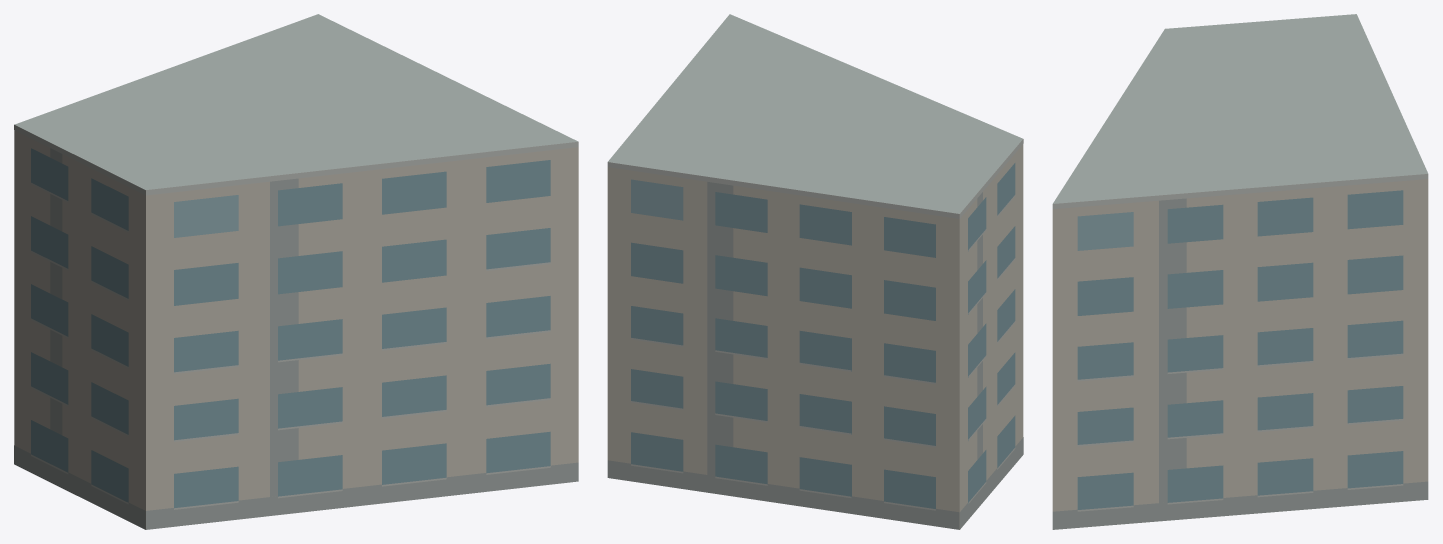
File: residential-d25a2760-00db-45e9-8450-524bcc6209c4.glb
3 views of the same model, side by side, from view 1: azimuth 30°, elevation 25°; view 2: azimuth 150°, elevation 25°; view 3: azimuth 270°, elevation 25° (orthographic). The views are drawn at different scales.
Parts seen in each view (by area): view 1: residential-d25a2760-00db-45e9-8450-524bcc6209c4.tmp; view 2: residential-d25a2760-00db-45e9-8450-524bcc6209c4.tmp; view 3: residential-d25a2760-00db-45e9-8450-524bcc6209c4.tmp.
Part boxes in pixels (x1=…): residential-d25a2760-00db-45e9-8450-524bcc6209c4.tmp: x1=14, y1=14, x2=578, y2=529; residential-d25a2760-00db-45e9-8450-524bcc6209c4.tmp: x1=607, y1=14, x2=1023, y2=529; residential-d25a2760-00db-45e9-8450-524bcc6209c4.tmp: x1=1052, y1=14, x2=1428, y2=529.
Bounding box in the file's own units: 19.08 × 15.25 × 15.95.
